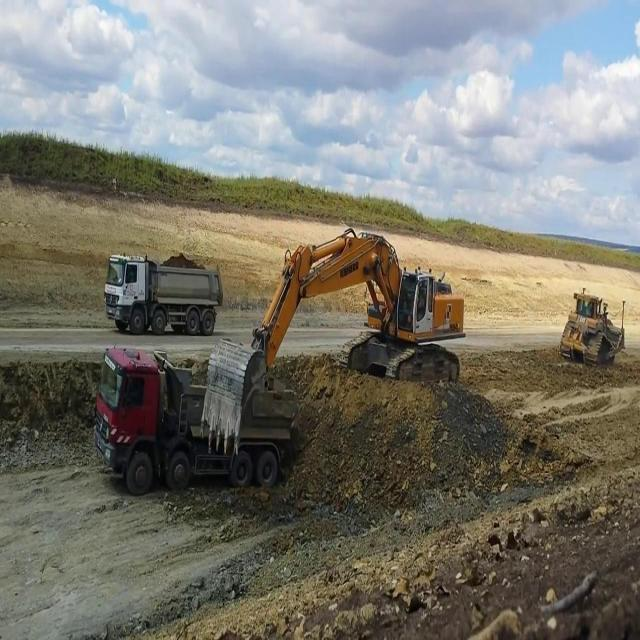buldozerpayloadergrader: (560, 285, 627, 369)
dump_truck: (93, 348, 295, 486), (104, 251, 222, 337)
excavator: (200, 226, 466, 458)
